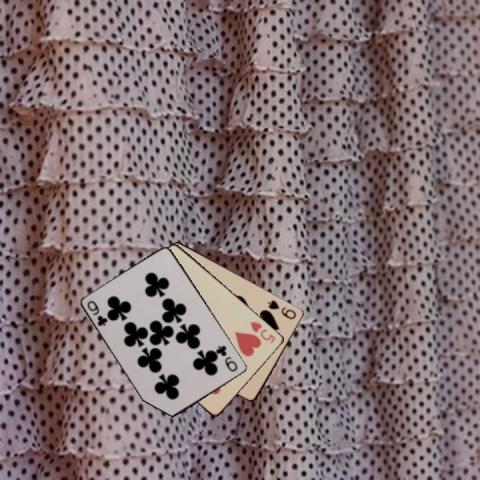5h: (247, 318, 277, 345)
9c: (84, 298, 109, 328), (215, 343, 239, 373)
9s: (265, 296, 298, 320)
